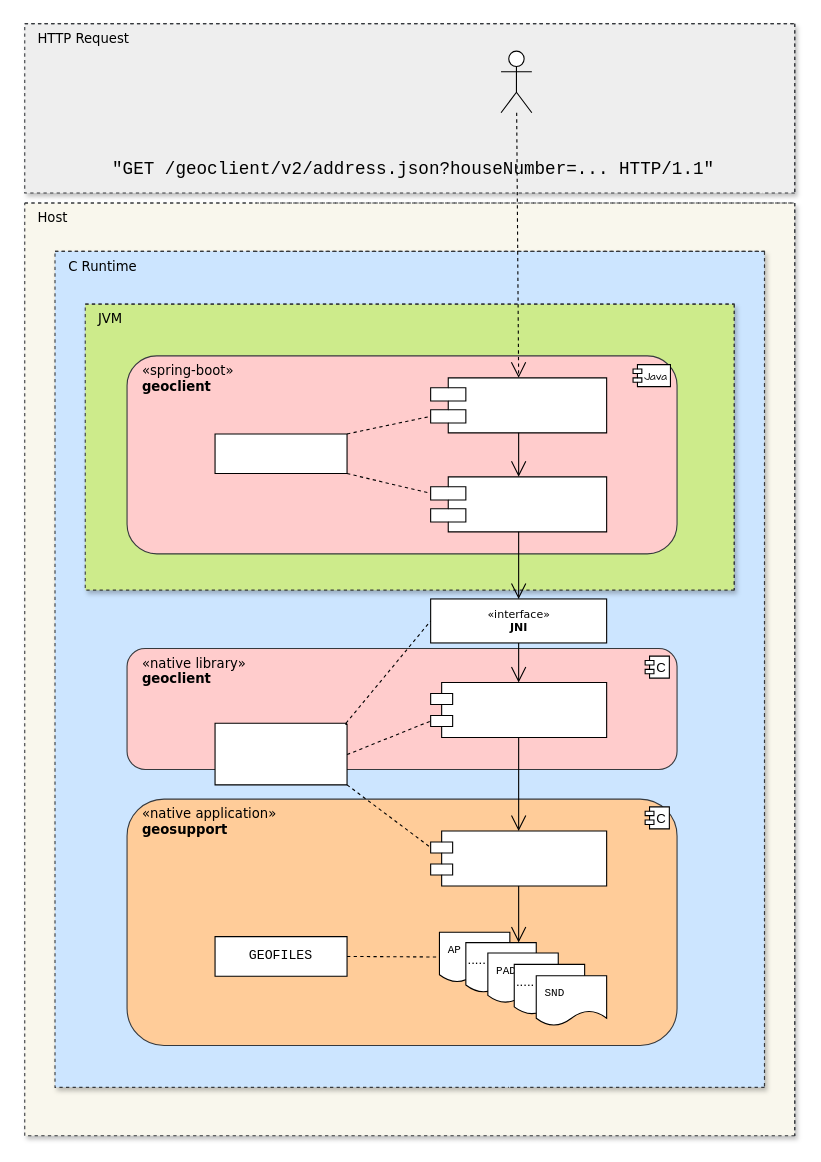
Image size: 821x1162. Some labels were removed from this diagram. Each missing label, with the centre of its shape:
"CLASSPATH" belongs at [280,453].
"Client" belongs at [516,81].
"geoclient-jni" belongs at [518,504].
"geoclient-service" belongs at [518,405].
"LD_LIBRARY_PATH or ldconfig" belongs at [280,753].
"libgeo" belongs at [518,858].
"libgeoclientjni" belongs at [518,709].
